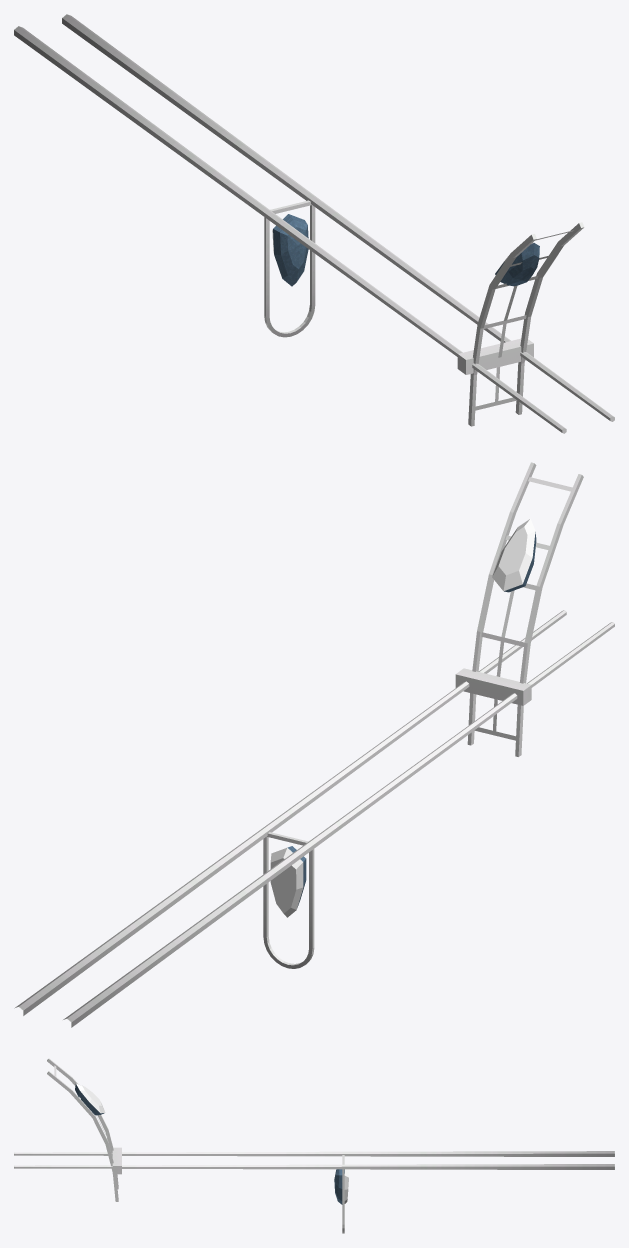
Rendered from ludeng01.osg.gltf.
3 views of the same model, one above another, from view 1: azimuth 30°, elevation 25°; view 2: azimuth 150°, elevation 25°; view 3: azimuth 270°, elevation 25° (orthographic). The views are drawn at different scales.
Visible parts, largest first — view 1: Group_MatrixTransform_ludeng01.osg_Geometry_0, Group_MatrixTransform_ludeng01.osg_Geometry_1; view 2: Group_MatrixTransform_ludeng01.osg_Geometry_0, Group_MatrixTransform_ludeng01.osg_Geometry_2; view 3: Group_MatrixTransform_ludeng01.osg_Geometry_0, Group_MatrixTransform_ludeng01.osg_Geometry_1, Group_MatrixTransform_ludeng01.osg_Geometry_2.
Part boxes in pixels (x1=…): Group_MatrixTransform_ludeng01.osg_Geometry_0: x1=14, y1=14, x2=614, y2=433; Group_MatrixTransform_ludeng01.osg_Geometry_1: x1=273, y1=214, x2=539, y2=286; Group_MatrixTransform_ludeng01.osg_Geometry_0: x1=14, y1=462, x2=614, y2=1027; Group_MatrixTransform_ludeng01.osg_Geometry_2: x1=270, y1=519, x2=535, y2=917; Group_MatrixTransform_ludeng01.osg_Geometry_0: x1=14, y1=1058, x2=614, y2=1233; Group_MatrixTransform_ludeng01.osg_Geometry_1: x1=75, y1=1084, x2=344, y2=1204; Group_MatrixTransform_ludeng01.osg_Geometry_2: x1=76, y1=1083, x2=349, y2=1203.
Bounding box in the file's own units: 1 × 4.27 × 13.92.
Materials: 3 (2 with a texture image).
